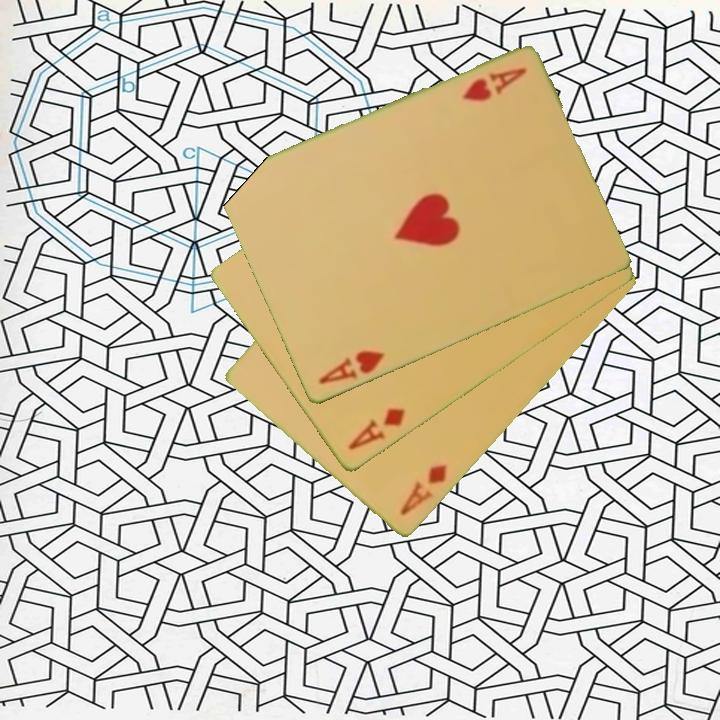Ad: (396, 461, 451, 520), (344, 405, 408, 454)
Ah: (314, 347, 387, 388), (458, 64, 530, 105)
